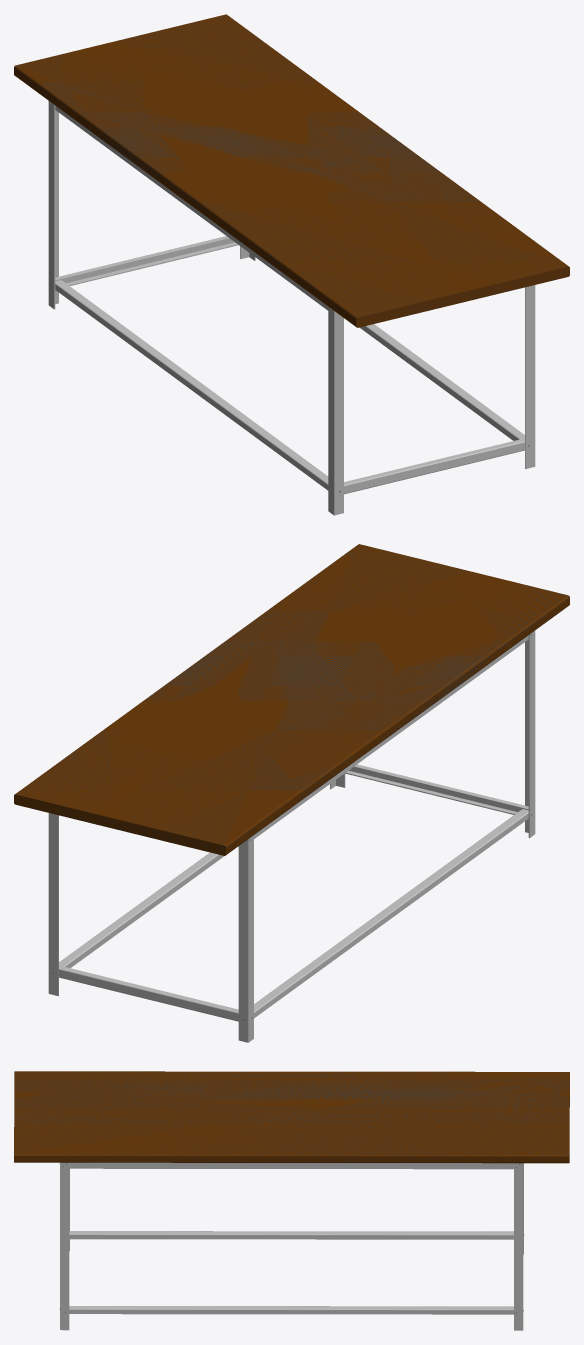
The model's file is lar_table_great.dae.
The picture shows the model from 3 angles, top to bottom: view 1: azimuth 30°, elevation 25°; view 2: azimuth 150°, elevation 25°; view 3: azimuth 270°, elevation 25°; orthographic projection. The views are drawn at different scales.
Parts seen in each view (by area): view 1: skp67f7, Component_8, Component_27, Component_24, Component_46, Component_3, Component_4, Component_26, Component_47; view 2: skp67f7, Component_8, Component_4, Component_3, Component_46, Component_24, Component_27, Component_25, Component_47; view 3: skp67f7, Component_8, Component_46, Component_7, Component_26, Component_25.
Boxes of the visible parts, x1,y1,x2,y2 form: skp67f7: (14,14,569,327); Component_8: (55,280,328,490); Component_27: (328,307,343,515); Component_24: (344,438,524,494); Component_46: (360,324,524,440); Component_3: (55,236,238,285); Component_4: (48,101,58,309); Component_26: (525,285,535,468); Component_47: (55,106,328,310); skp67f7: (14,544,569,855); Component_8: (254,809,528,1018); Component_4: (238,835,253,1042); Component_3: (59,965,238,1021); Component_46: (59,852,224,968); Component_24: (345,764,528,814); Component_27: (525,630,535,838); Component_25: (48,813,58,996); Component_47: (254,635,528,838); skp67f7: (14,1071,569,1163); Component_8: (69,1231,513,1239); Component_46: (69,1306,513,1314); Component_7: (69,1162,513,1169); Component_26: (60,1162,69,1330); Component_25: (514,1163,523,1330).
Size of the model in its own units: 34.18 by 94.89 by 33.46.
